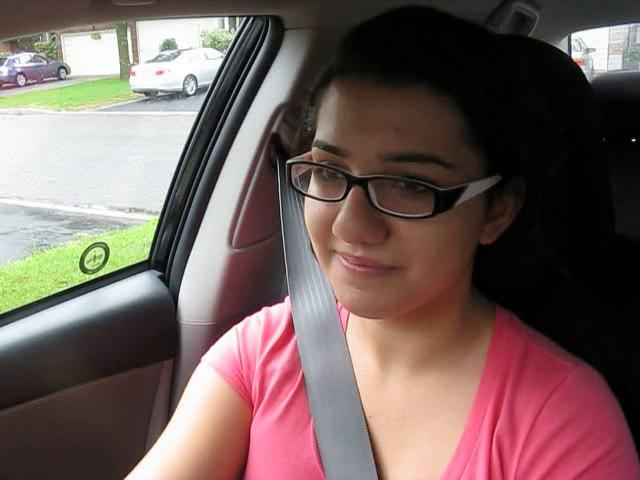no_yawn: (312, 241, 412, 292)
open_eyeL: (293, 150, 360, 201)
open_eyeR: (369, 164, 458, 217)
